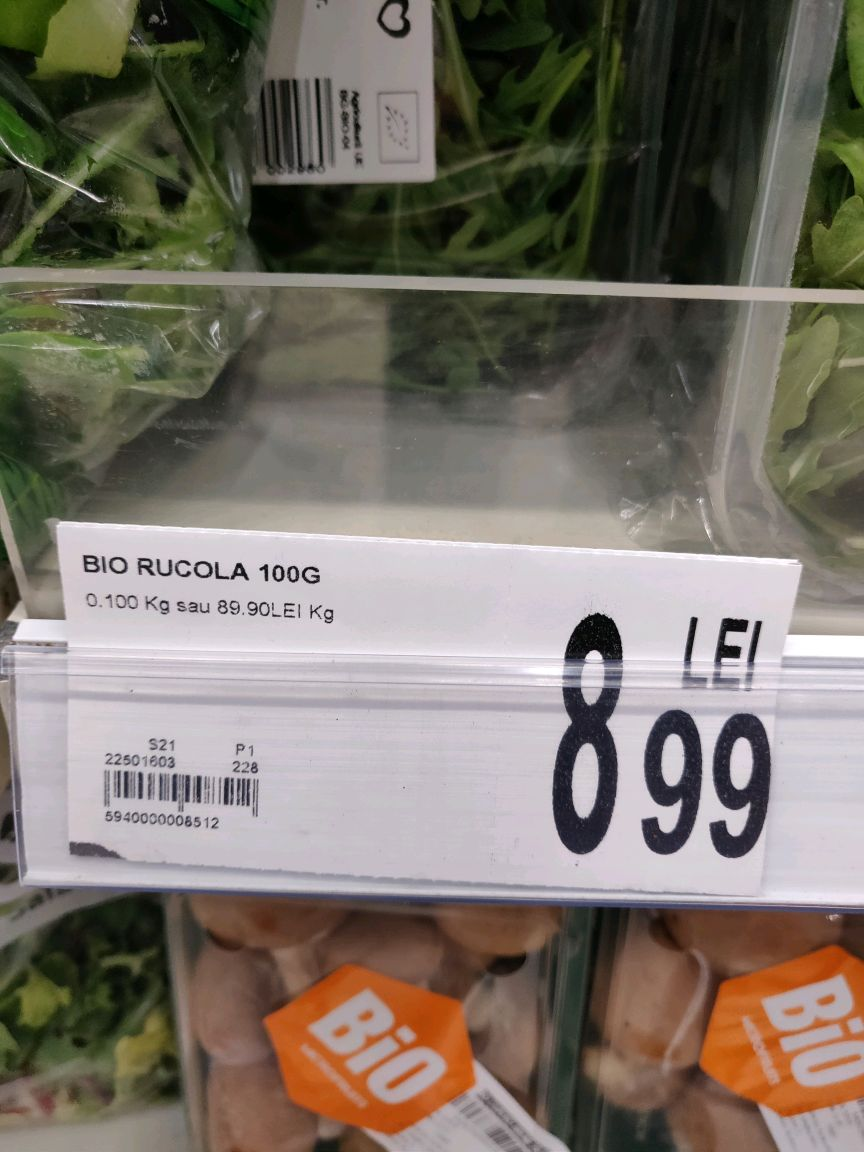price_bani: (629, 700, 784, 875)
price_lei: (537, 602, 631, 867)
price_tag: (37, 510, 795, 924)
product_id: (93, 809, 235, 838)
product_name: (71, 545, 345, 591)
